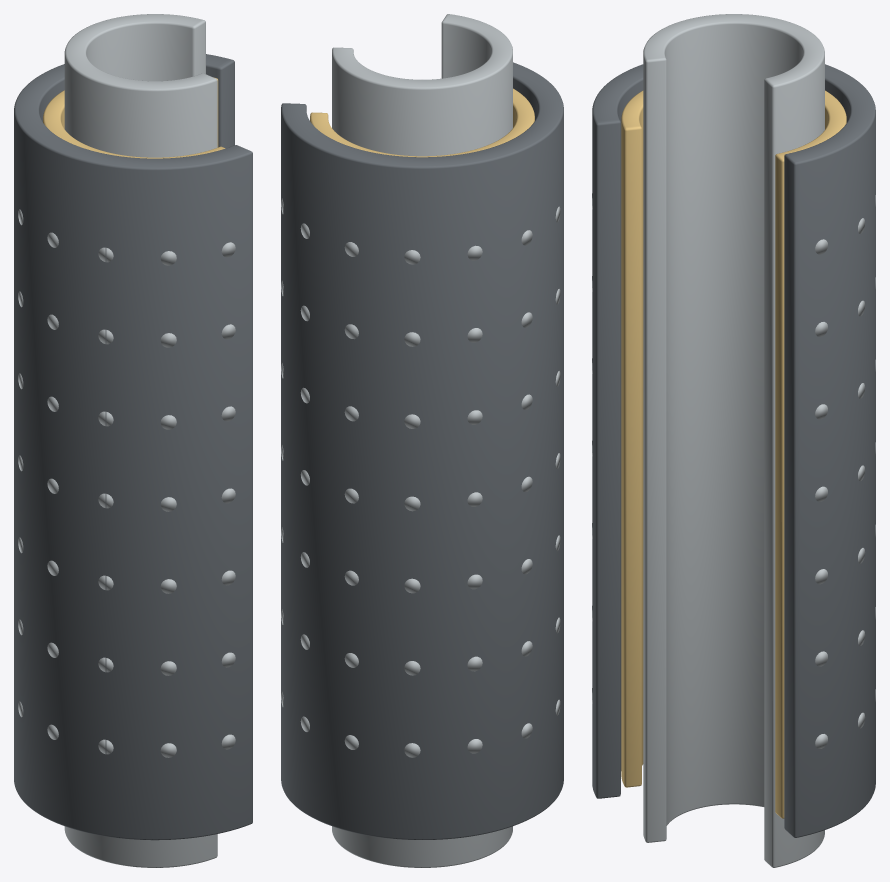
The model's file is premium-screen.glb.
The picture shows the model from 3 angles, left to right: view 1: azimuth 30°, elevation 25°; view 2: azimuth 150°, elevation 25°; view 3: azimuth 270°, elevation 25°; orthographic projection.
Parts seen in each view (by area): view 1: Perforated shroud, Base pipe, Mesh layer; view 2: Perforated shroud, Base pipe, Mesh layer; view 3: Base pipe, Perforated shroud, Mesh layer.
Boxes of the visible parts, box(x1,y1,x2,y2) form: Perforated shroud: box(14, 54, 252, 840); Base pipe: box(64, 14, 217, 867); Mesh layer: box(43, 77, 225, 158); Perforated shroud: box(281, 62, 563, 839); Base pipe: box(332, 14, 512, 867); Mesh layer: box(310, 88, 534, 157); Base pipe: box(643, 14, 824, 867); Perforated shroud: box(592, 64, 875, 837); Mesh layer: box(621, 90, 846, 818).
Bounding box in the file's own units: 1.48 × 4.75 × 1.56.
